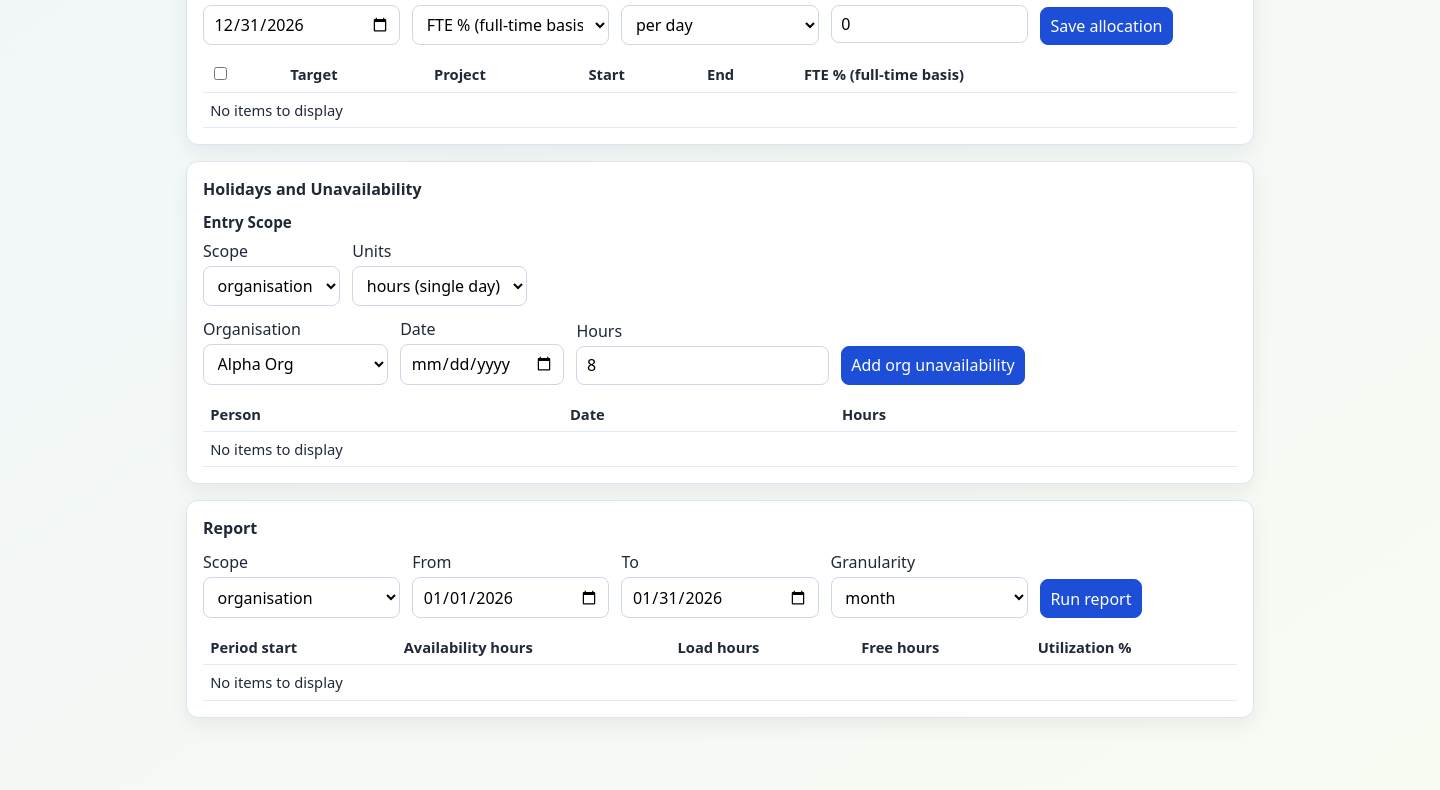
Scenario: App multi-step flows › shows per-period report summaries with expandable multi-object details
(page scrolled)
expect the element "Report" is shown: met, box [186,500,1254,718]
Select "person" in the dropdown labelled "Scope" below "From": (302, 598) [203,577,400,618]
(page scrolled)
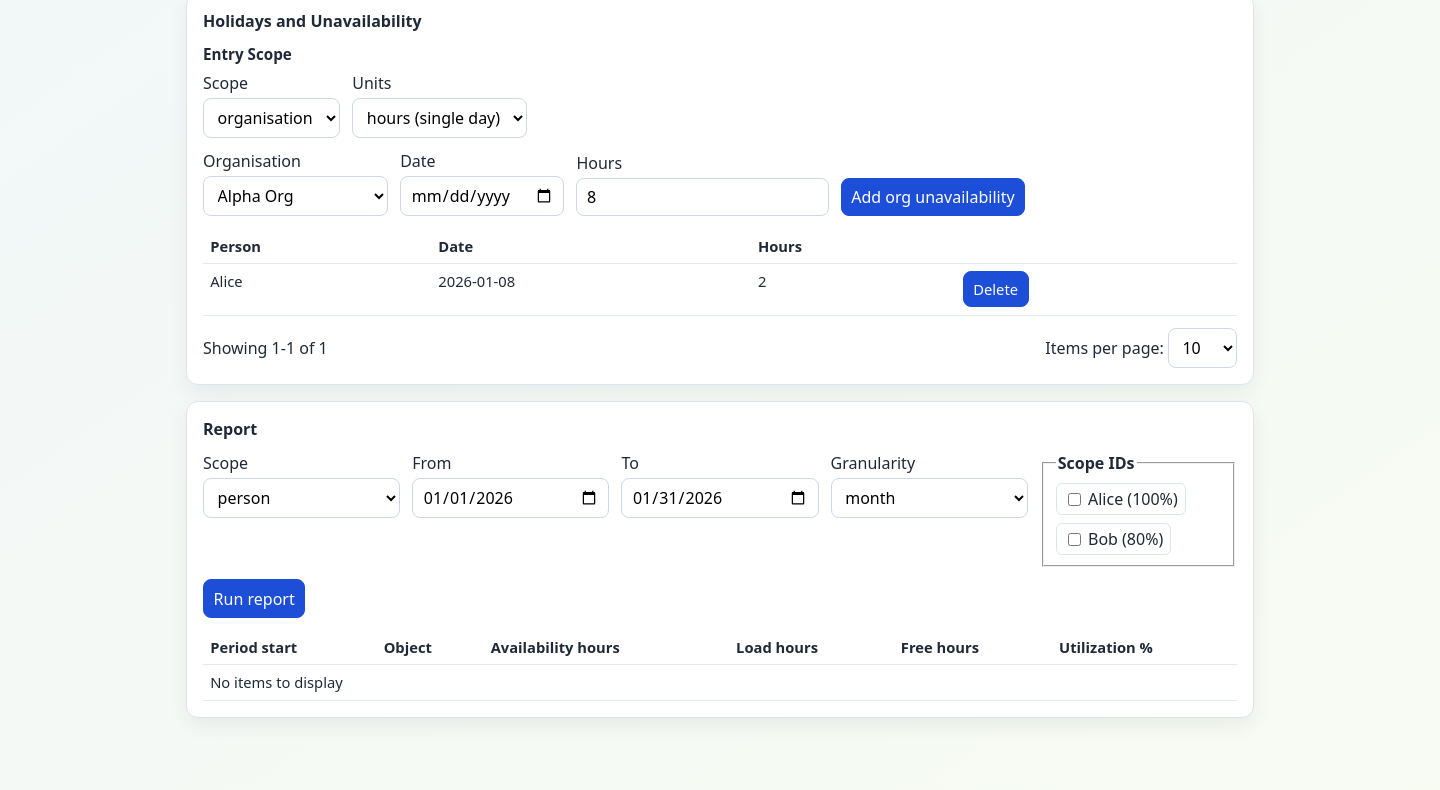
Click the button "Run report": (254, 599) [203,580,305,618]
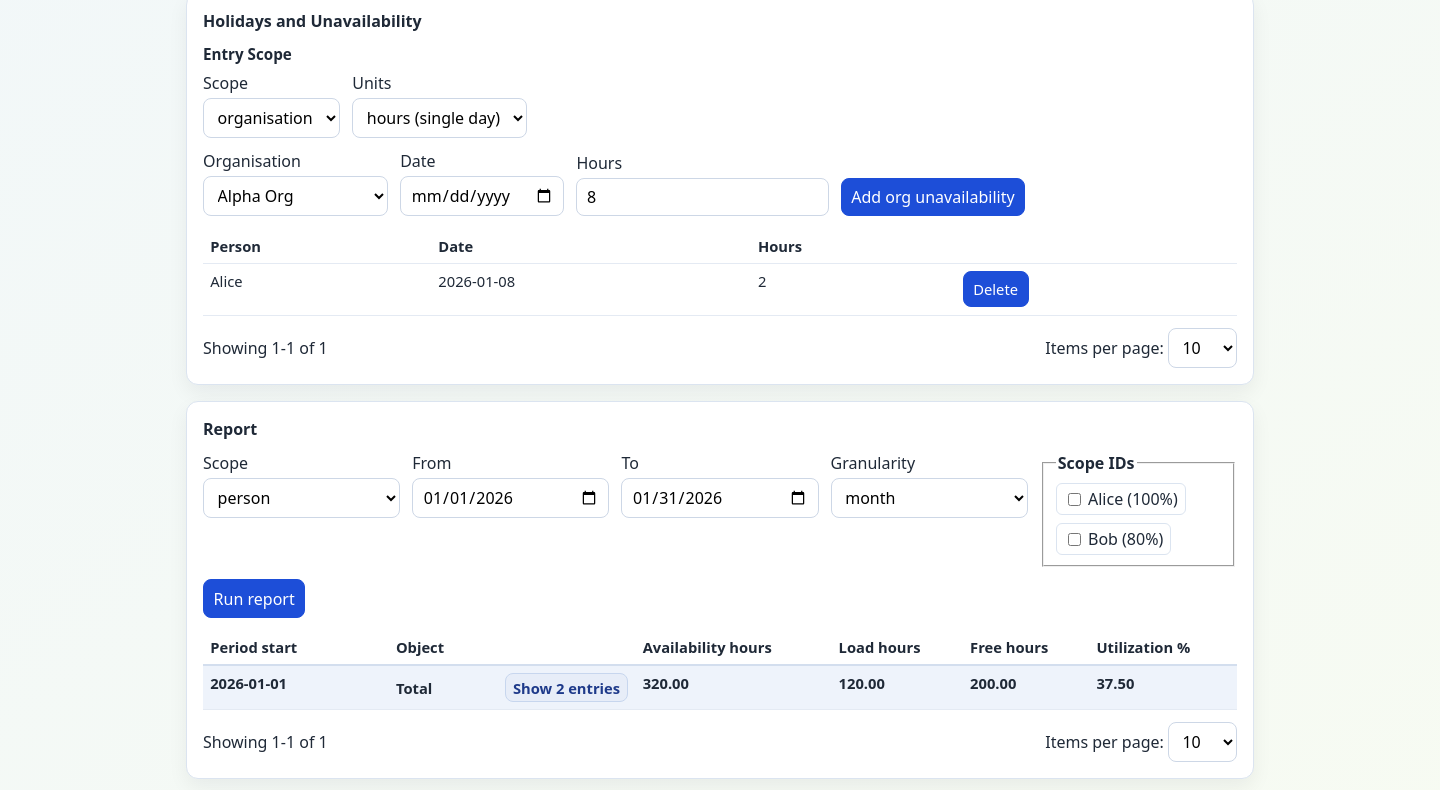
expect the column heading "Object" is shown: met, box [389,630,636,665]
expect the text "Total" is shown: met, box [396,678,432,698]
expect the number of cells "2026-01-01" is 1: met, box [203,665,389,710]
Click the button "Show 2 entries": (566, 688) [505,673,628,702]
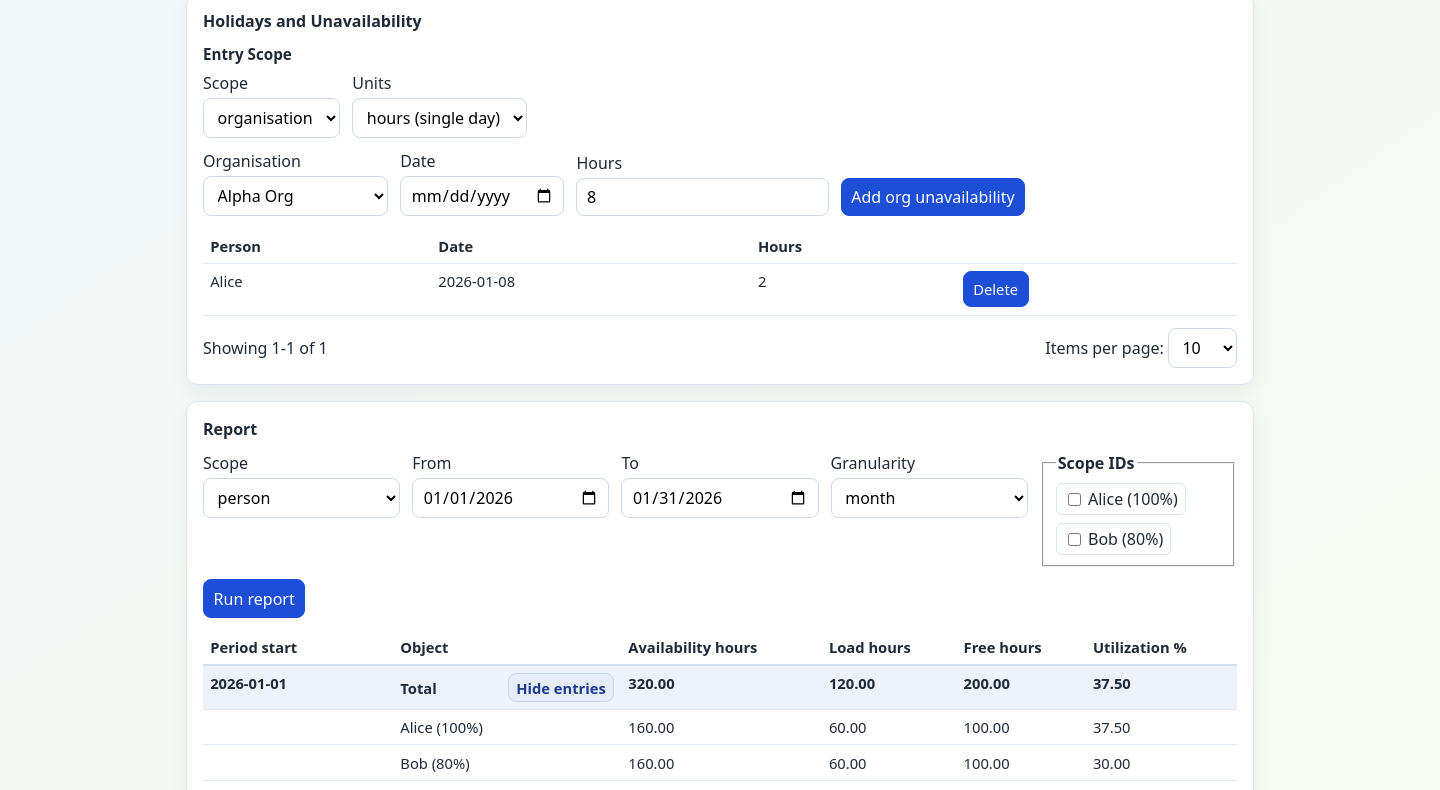
expect the button "Hide entries" is shown: met
expect the cell "Alice (100%)" is shown: met, box [393,710,621,745]
expect the cell "Bob (80%)" is shown: met, box [393,745,621,780]
Click the button "Hide entries": (561, 688) [508,673,614,702]
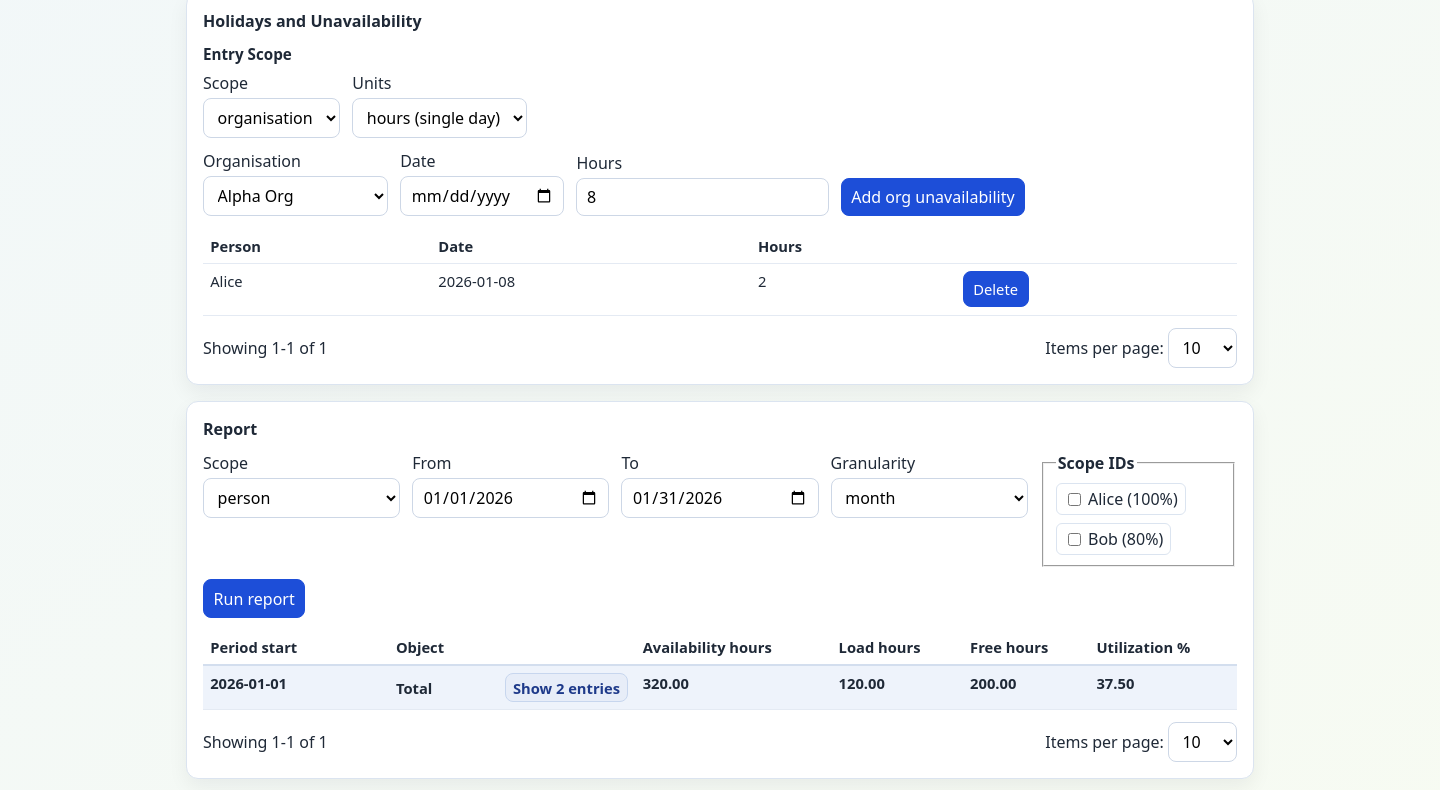
expect the button "Show 2 entries" is shown: met, box [505,673,628,702]
